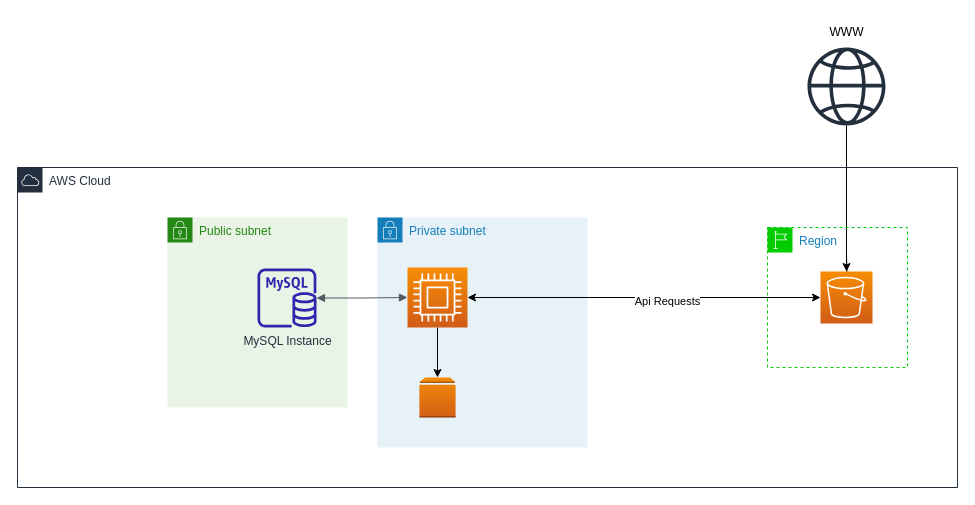
Image size: 975x505. Some labels were removed from this diagram. The shapes that lost their labels are listed below. From the top down, each one's box as (x1, y1, x2, y2) in pixels, then its label:
(406, 266, 468, 328): Application Server
(820, 270, 872, 324): Amazon S3 Static assets
(418, 376, 456, 418): Data Volume
